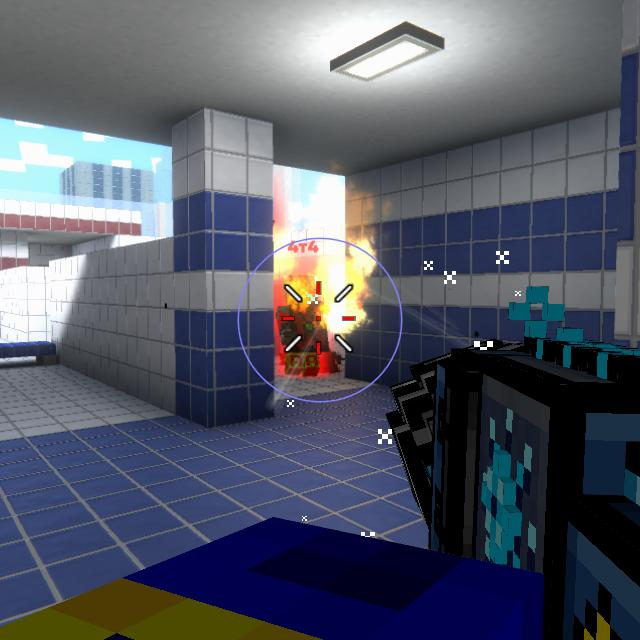Enemy: (276, 274, 330, 376)
